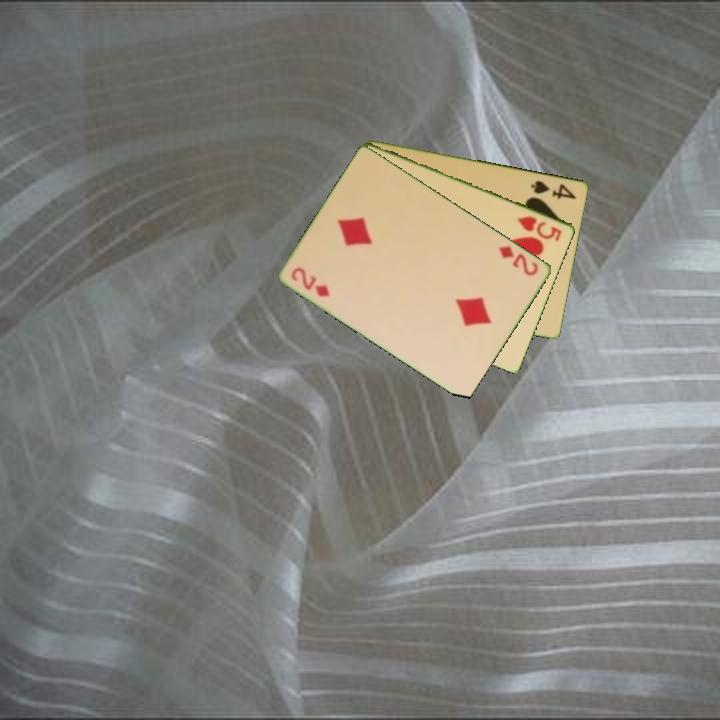2d: (495, 242, 542, 279), (288, 263, 333, 300)
4s: (528, 177, 579, 202)
5h: (514, 212, 565, 244)
